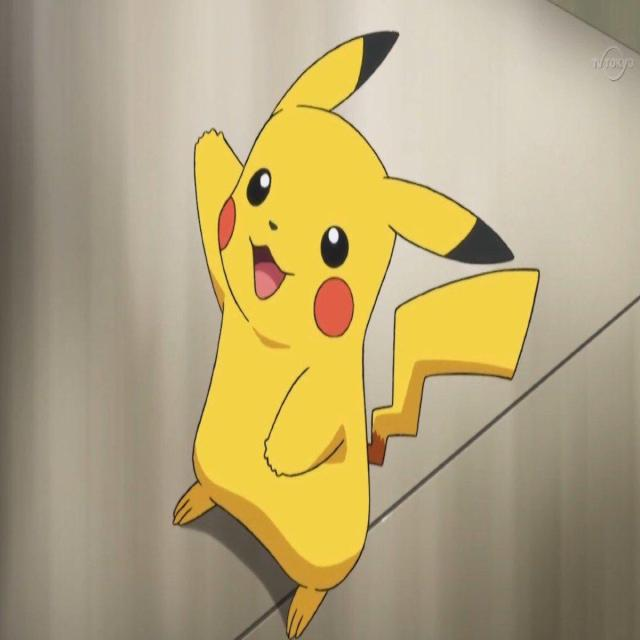pikachu: (174, 34, 540, 637)
